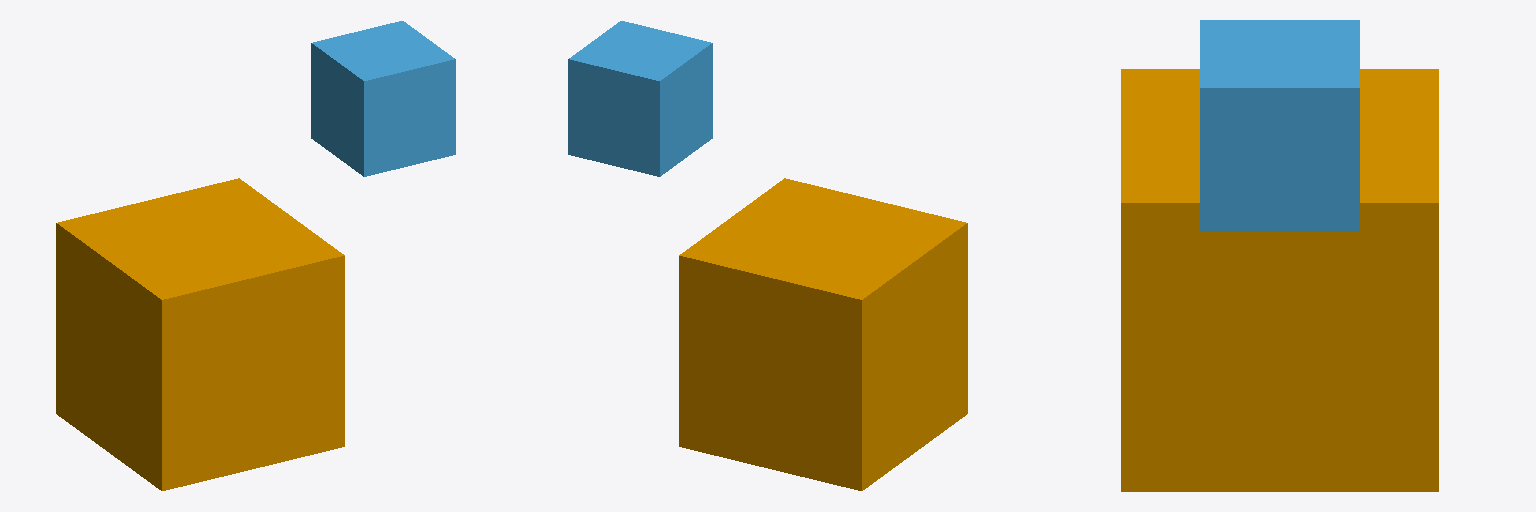
robot.urdf — test_robot:
<?xml version="1.0" ?>
<robot name="test_robot">
  <link name="base_link">
    <visual>
      <geometry>
        <box size="0.1 0.1 0.1"/>
      </geometry>
    </visual>
  </link>
  <link name="link1">
    <visual>
      <geometry>
        <box size="0.05 0.05 0.05"/>
      </geometry>
    </visual>
  </link>
  <joint name="joint1" type="revolute">
    <parent link="base_link"/>
    <child link="link1"/>
    <origin xyz="0.1 0 0.1"/>
    <axis xyz="0 0 1"/>
    <limit lower="-1.57" upper="1.57" effort="10" velocity="1.0"/>
  </joint>
</robot>

--- Render facts (derived) ---
3 views of the same robot in one strip: view 1: azimuth 30°, elevation 25°; view 2: azimuth 150°, elevation 25°; view 3: azimuth 270°, elevation 25° (orthographic).
Model test_robot with 2 links and 1 joints (1 revolute), rooted at base_link, posed every joint at zero.
Links seen in each view (by area): view 1: base_link, link1; view 2: base_link, link1; view 3: base_link, link1.
Boxes of the visible links, x1,y1,x2,y2 form: base_link: (56, 178, 344, 490); link1: (311, 21, 455, 176); base_link: (679, 178, 967, 490); link1: (568, 21, 712, 176); base_link: (1121, 69, 1438, 491); link1: (1200, 20, 1359, 231).
Bounding box of the posed robot: 0.175 × 0.1 × 0.175 m (x, y, z).
Geometry: primitives only (box / cylinder / sphere), no mesh files.
